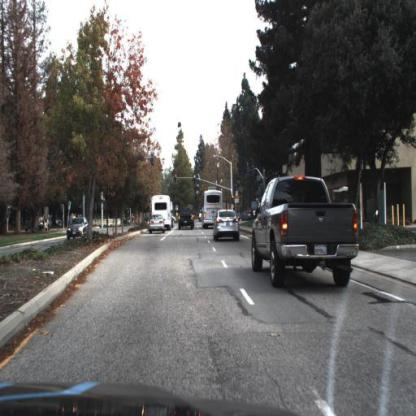car: (250, 174, 361, 286), (213, 207, 241, 244), (66, 217, 88, 241), (177, 208, 195, 231), (149, 214, 167, 235)
truck: (201, 189, 224, 225), (152, 193, 173, 227)
